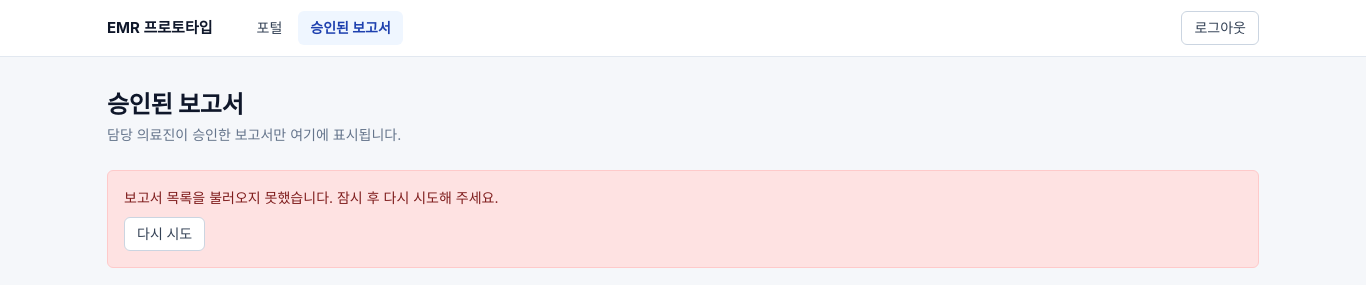
Test: PatientReportsPage › shows a generic error with a working retry button on a server error
What coordinates should you click on to do the following:
click the button "다시 시도"
I would click on:
 (165, 234)
Its box is top-left (124, 217), bottom-right (205, 251).
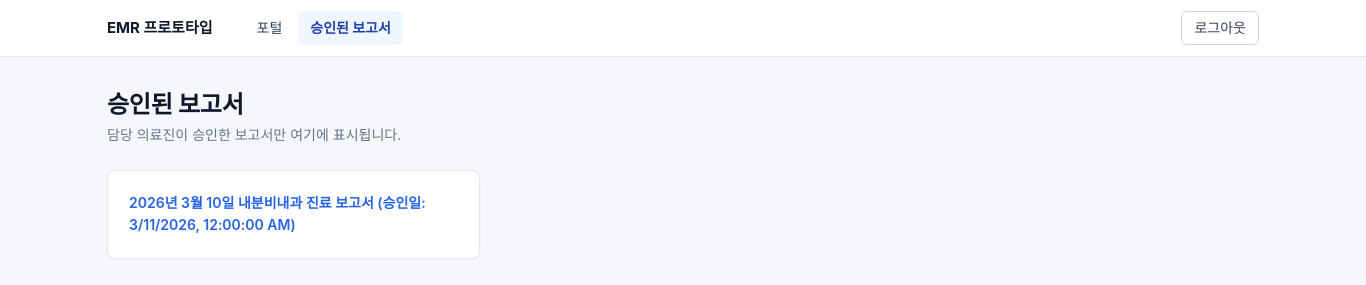
Check: the link "2026년 3월 10일 내분비내과 진료 보고서 (승인일: 3/11/2026, 12:00:00 AM)" is shown, box top-left (128, 191), bottom-right (459, 238)
